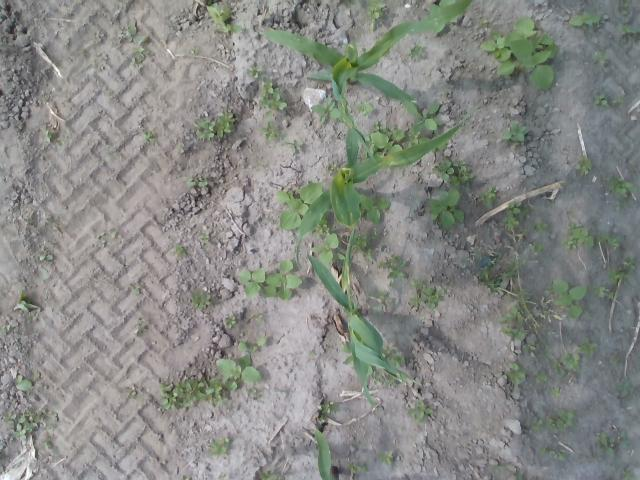Maize: (259, 0, 475, 165), (296, 104, 480, 266), (306, 253, 420, 411), (314, 428, 339, 480)
Weeds: (481, 16, 558, 92), (238, 259, 302, 301), (275, 180, 324, 231), (158, 376, 229, 410), (363, 120, 406, 162), (216, 355, 263, 393), (5, 408, 58, 440), (545, 279, 586, 319), (401, 98, 443, 136), (426, 188, 464, 228), (118, 24, 149, 69), (194, 109, 236, 141), (205, 0, 242, 36), (406, 278, 446, 311), (432, 158, 474, 188), (311, 232, 345, 267), (258, 76, 286, 118), (558, 222, 594, 250), (594, 428, 630, 456), (428, 0, 456, 35), (358, 194, 390, 224), (501, 200, 531, 230), (606, 257, 638, 285), (404, 132, 446, 152), (310, 98, 340, 125), (367, 364, 399, 389), (376, 254, 406, 280), (352, 232, 378, 261), (501, 120, 528, 146), (602, 176, 637, 196), (553, 353, 581, 378), (546, 408, 574, 432), (366, 0, 386, 32), (567, 11, 600, 30), (408, 399, 432, 425), (313, 210, 336, 236), (380, 345, 404, 369), (368, 290, 391, 314), (14, 370, 40, 390), (538, 445, 568, 462), (259, 121, 284, 141), (504, 362, 526, 384), (14, 290, 36, 312), (498, 305, 524, 323), (529, 298, 550, 319), (208, 436, 230, 456), (238, 337, 266, 352), (574, 155, 594, 176), (590, 284, 616, 300), (596, 232, 622, 248), (576, 338, 598, 356), (478, 186, 497, 206), (614, 379, 634, 398), (407, 42, 428, 60), (190, 290, 210, 308), (502, 327, 526, 342), (280, 138, 302, 154), (316, 400, 341, 414), (340, 342, 354, 366), (538, 338, 553, 360), (617, 24, 640, 38), (40, 243, 56, 262), (98, 230, 117, 245), (356, 100, 373, 116), (186, 174, 208, 186), (244, 64, 262, 78), (592, 50, 610, 64), (532, 369, 550, 382), (378, 450, 394, 464), (141, 130, 157, 144), (348, 461, 368, 472), (524, 419, 542, 430), (533, 218, 547, 232), (614, 198, 630, 210), (528, 241, 544, 253), (224, 316, 237, 330), (44, 129, 57, 143), (259, 470, 277, 480), (620, 469, 636, 480), (594, 94, 608, 106), (174, 244, 187, 256), (326, 162, 338, 174), (550, 387, 562, 398), (0, 324, 11, 336), (128, 391, 142, 400), (612, 95, 624, 105), (254, 312, 264, 324), (200, 232, 210, 244), (494, 464, 507, 473), (522, 343, 536, 351), (135, 324, 146, 334), (131, 285, 140, 295), (480, 20, 490, 28), (44, 440, 52, 450), (344, 0, 362, 4), (515, 471, 523, 480), (620, 0, 629, 8), (309, 350, 318, 357), (190, 50, 200, 56), (318, 416, 326, 423), (361, 47, 369, 52)
